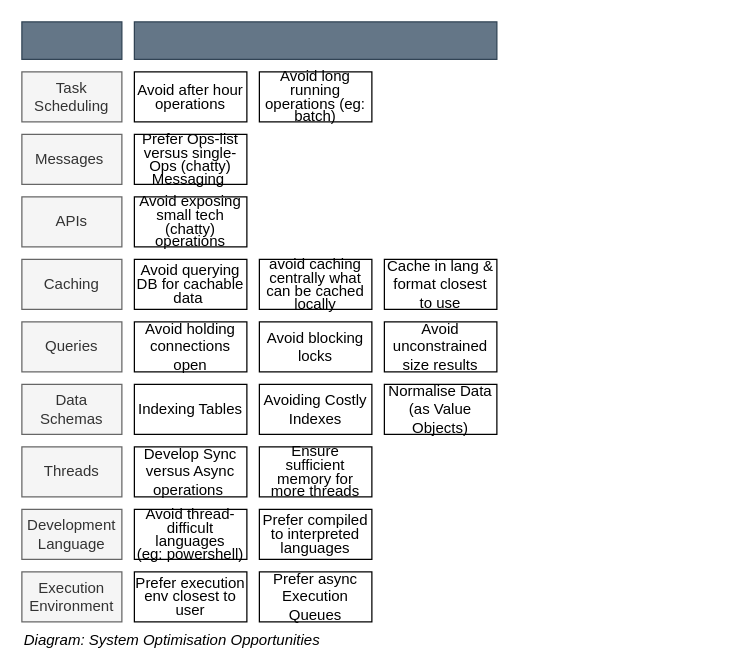
Some shapes in this 744 by 671 pixel diagram are drawn without their labels. The shapes that lost their labels are listed below. From the top down, each one's centre as x and y in pixels, then its label:
At point 71,40: "Optimisation Area".
At point 315,40: "Optimisation Opportunities".
